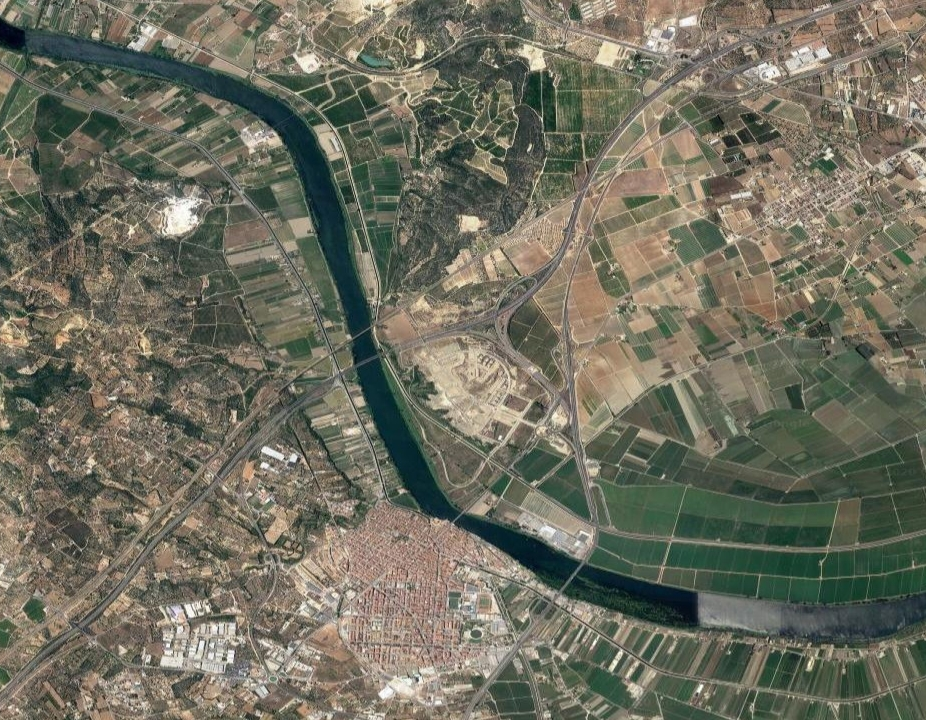industrial: (145, 593, 241, 678)
motorway: (1, 491, 203, 717), (186, 328, 414, 509), (397, 233, 625, 414), (525, 55, 753, 236), (525, 413, 651, 599), (705, 1, 926, 98)
